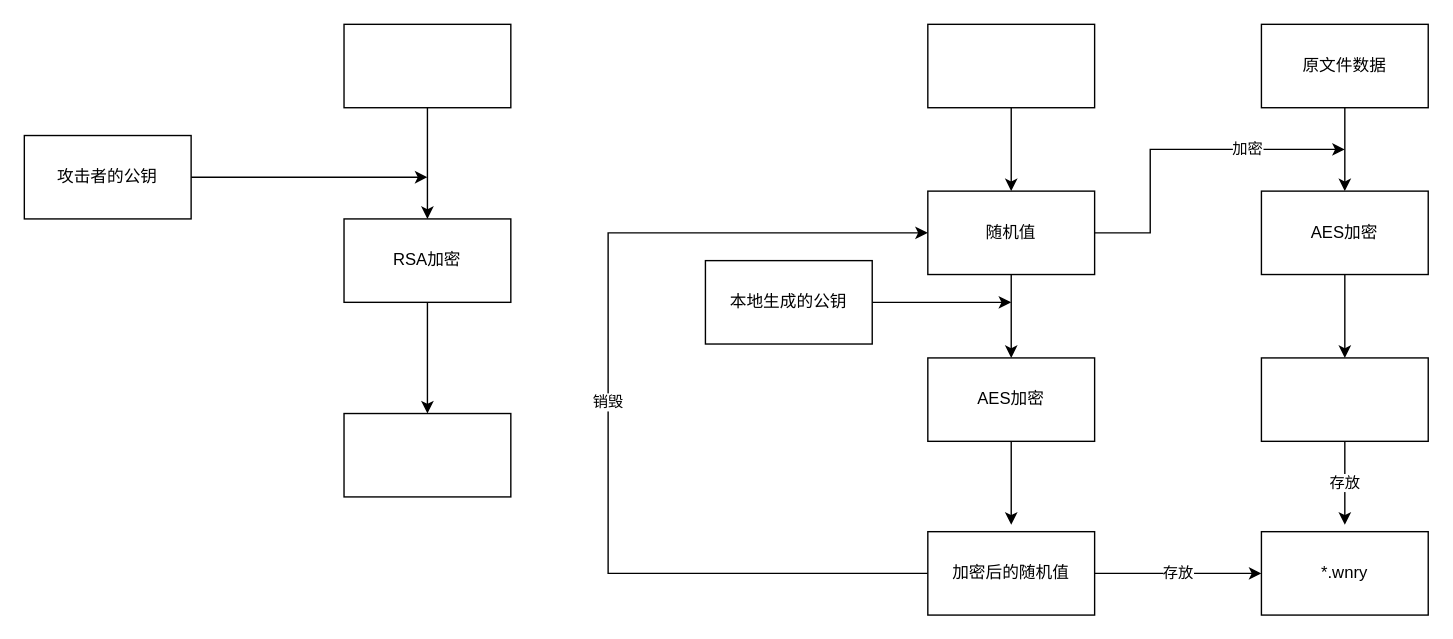
The diagram is 1453 pixels wide and 639 high, and some of its shapes have lost their labels. The centre of each missing label's shape, as x and y in pixels:
加密后的文件数据: the point at 1344,399
加密后的私钥: the point at 427,454
本地生成一个随机值: the point at 1010,65
本地生成的私钥: the point at 427,65
